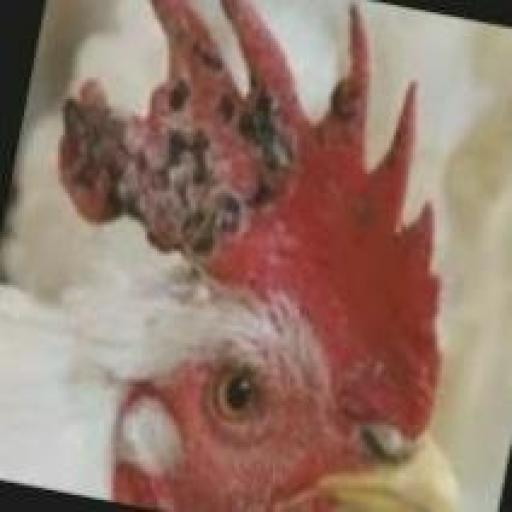disease: (58, 86, 306, 248), (175, 23, 226, 80), (327, 82, 363, 128)
